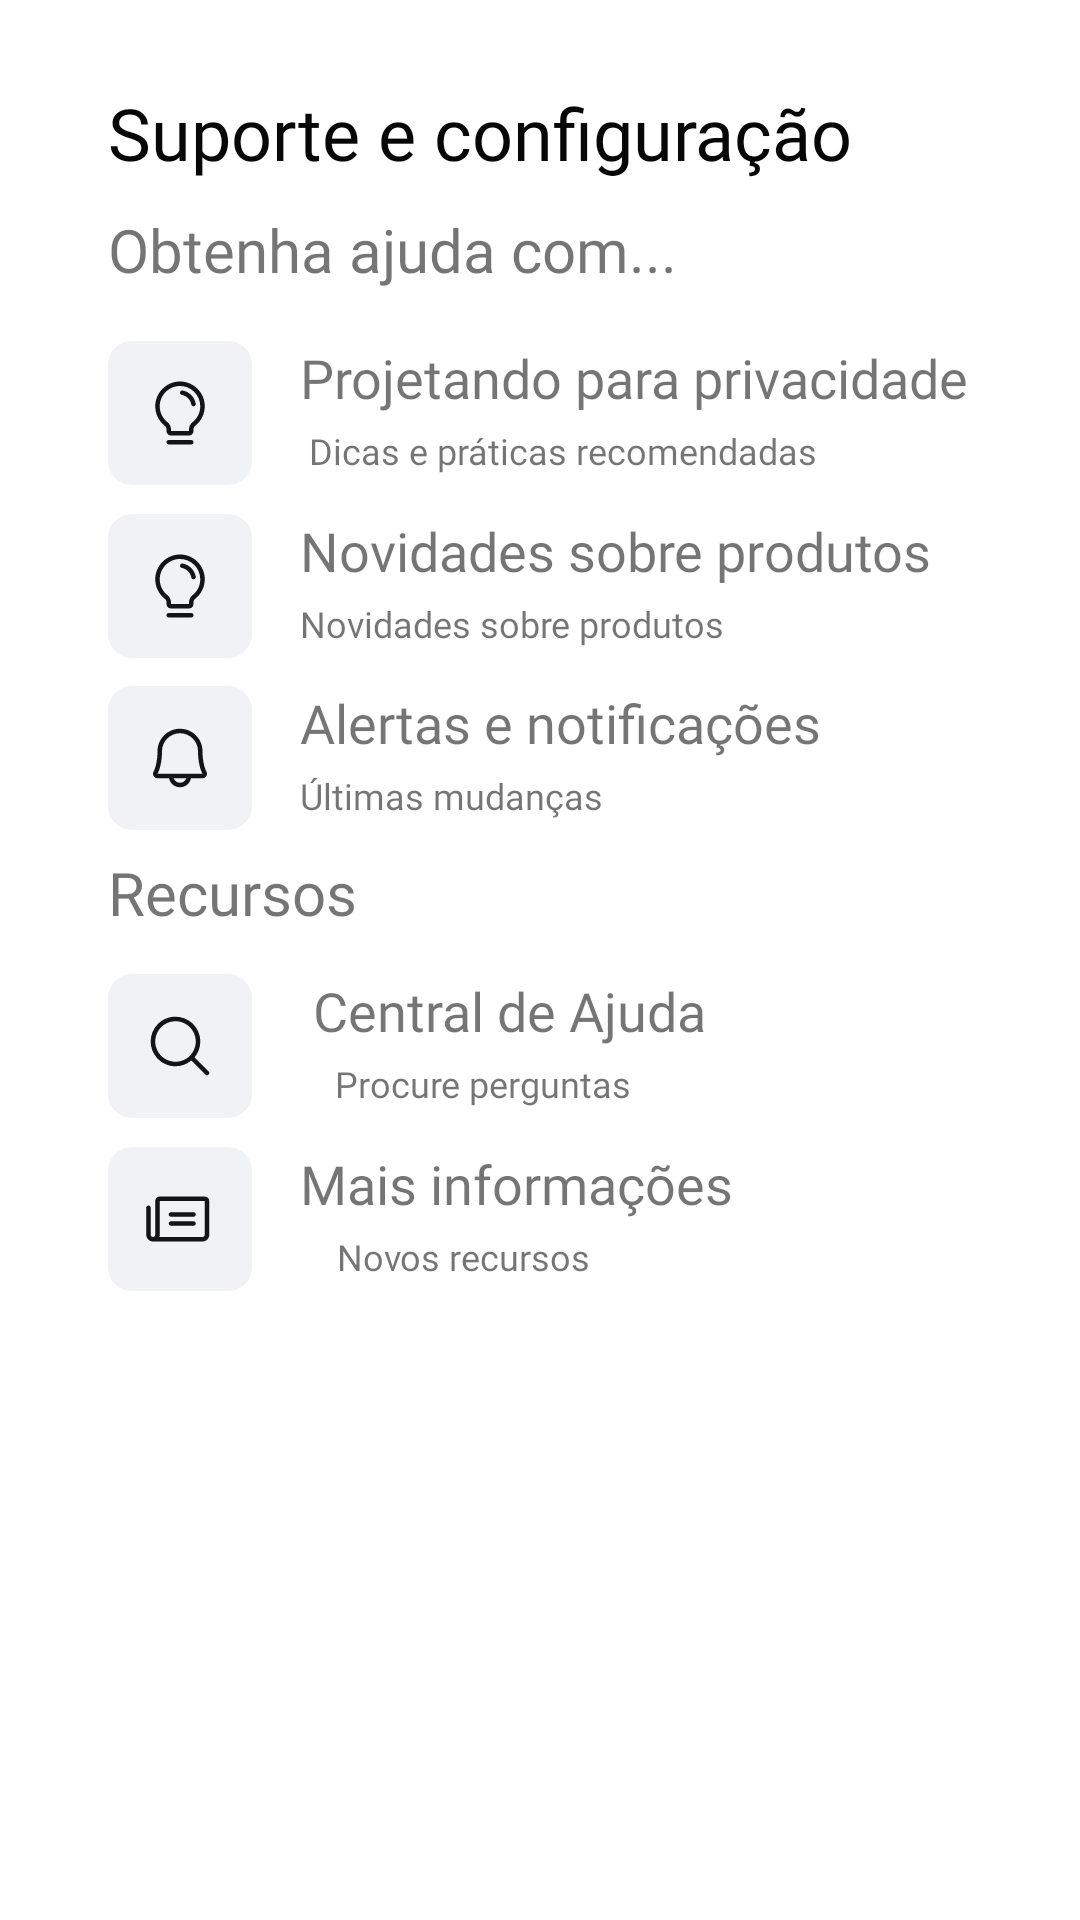

Named icons in this screenshot (1080 × 1920) and their bounding boxes, (x1, y1, x2, y2):
jornal: (108, 1147, 252, 1291)
lampada: (108, 341, 252, 485), (108, 514, 252, 658)
notificacao: (108, 686, 252, 830)
pesquisa: (108, 974, 252, 1118)
